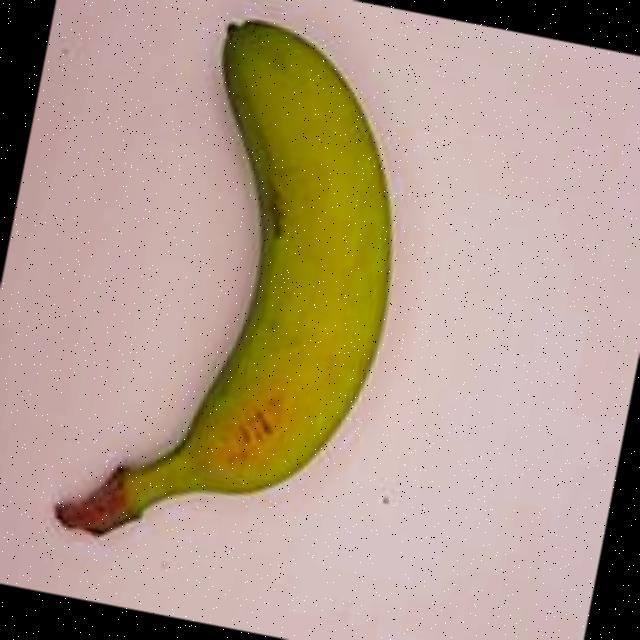Unripe: (0, 0, 477, 609)
